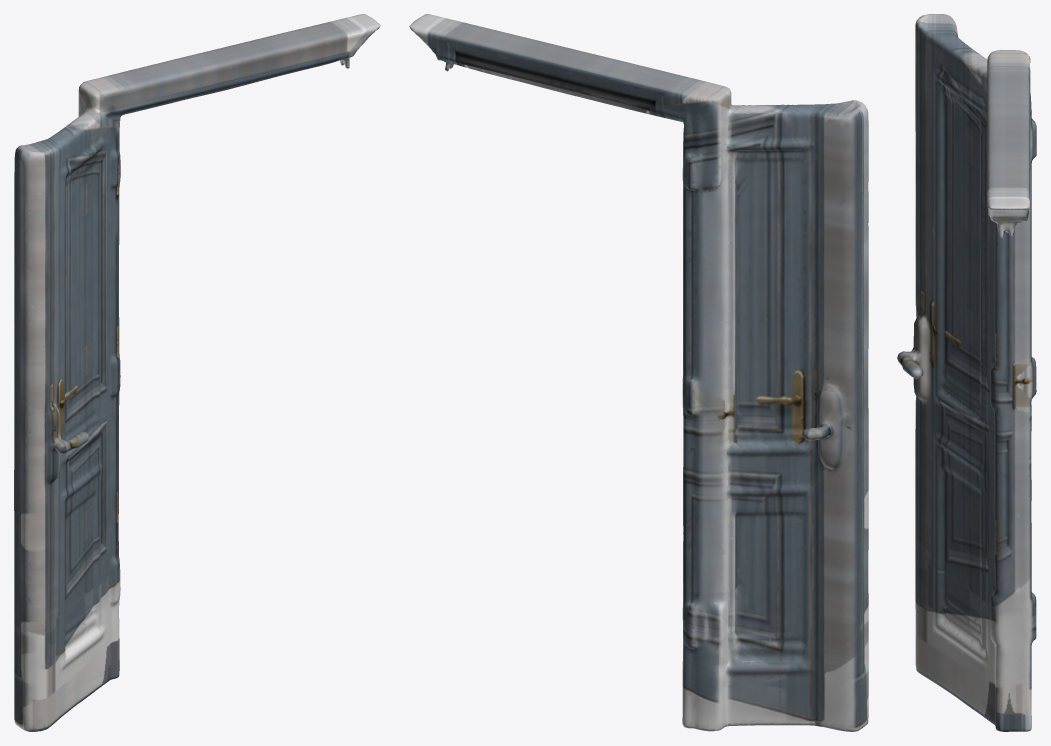
File: door.glb
The picture shows the model from 3 angles, left to right: view 1: azimuth 30°, elevation 25°; view 2: azimuth 150°, elevation 25°; view 3: azimuth 270°, elevation 25°; orthographic projection. The views are drawn at different scales.
Parts seen in each view (by area): view 1: geometry_0; view 2: geometry_0; view 3: geometry_0.
Part boxes in pixels (left/top/right/bottom): geometry_0: left=14, top=14, right=380, bottom=731; geometry_0: left=409, top=14, right=868, bottom=731; geometry_0: left=897, top=14, right=1036, bottom=731.
Bounding box in the file's own units: 1.34 × 1.96 × 0.371.
Materials: 1 (1 with a texture image).
